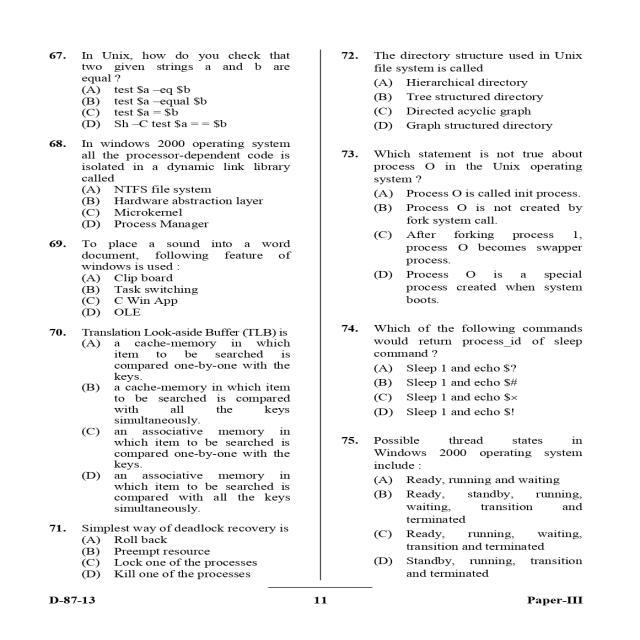Answer_Block: (40, 336, 311, 514), (332, 188, 586, 308), (332, 474, 586, 580), (332, 361, 586, 426), (333, 75, 586, 134), (38, 182, 311, 232), (40, 84, 312, 134), (39, 534, 312, 582), (38, 272, 310, 319)
Question_Answer_Block: (40, 323, 311, 514), (332, 146, 586, 309), (332, 430, 586, 579), (332, 320, 586, 426), (38, 136, 311, 232), (40, 45, 312, 134), (38, 236, 310, 318), (333, 46, 586, 134), (39, 521, 312, 582)
Question_Block: (38, 137, 311, 182), (332, 430, 586, 476), (332, 146, 586, 188), (332, 320, 586, 360), (40, 46, 312, 82), (38, 236, 310, 272), (333, 46, 586, 74), (40, 323, 311, 338), (39, 522, 312, 534)
Question_Paper_Area: (39, 46, 312, 584), (333, 47, 587, 580)
